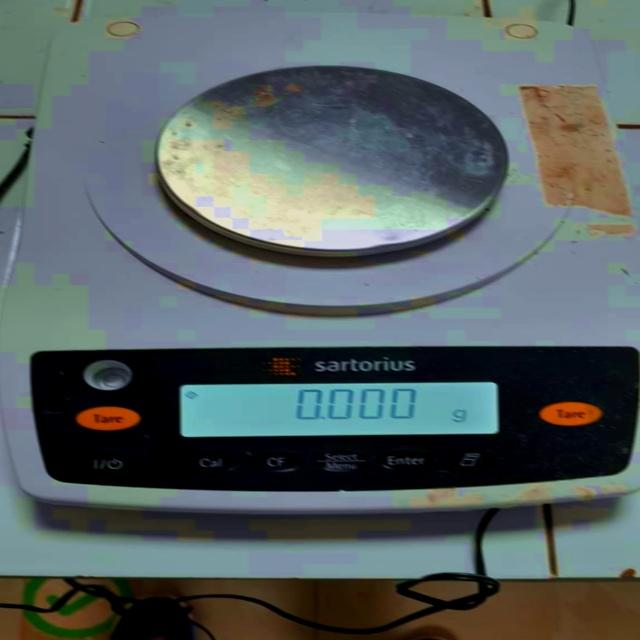Electronic balance: (4, 17, 637, 520)
